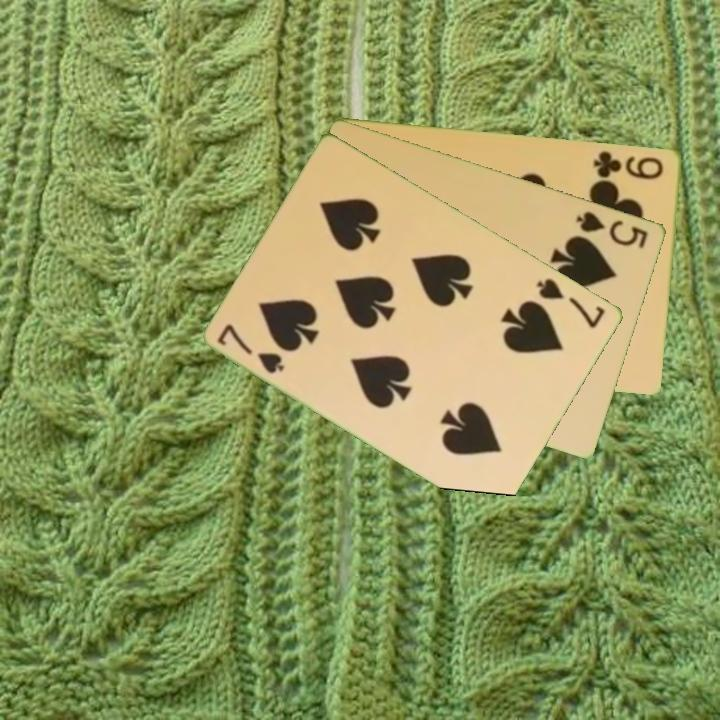5s: (573, 207, 652, 252)
7s: (533, 274, 609, 332), (214, 320, 288, 377)
9c: (590, 147, 667, 182)
